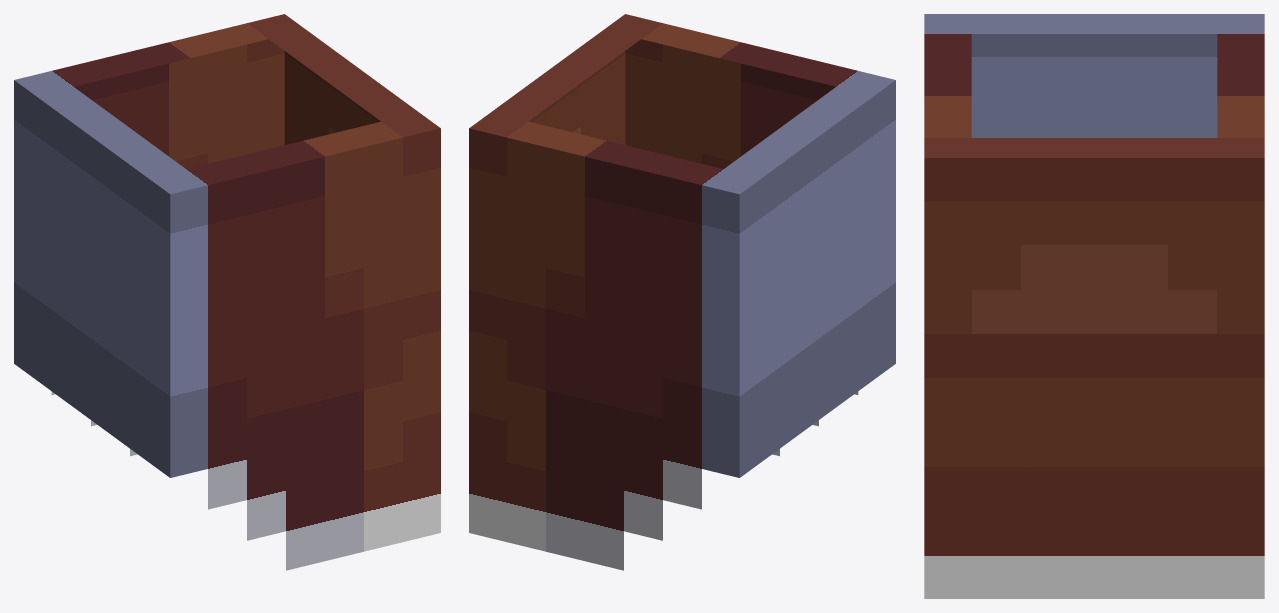
Rendered from leatherarmor-leg-right.gltf.
3 views of the same model, side by side, from view 1: azimuth 30°, elevation 25°; view 2: azimuth 150°, elevation 25°; view 3: azimuth 270°, elevation 25° (orthographic). The views are drawn at different scales.
Parts seen in each view (by area): view 1: leather; view 2: leather; view 3: leather.
Boxes of the visible parts, x1=… form: leather: x1=14, y1=14, x2=440, y2=570; leather: x1=469, y1=14, x2=895, y2=570; leather: x1=924, y1=14, x2=1264, y2=598.
Size of the model in its own units: 0.2188 by 0.3172 by 0.2188.
Materials: 2 (2 with a texture image).
